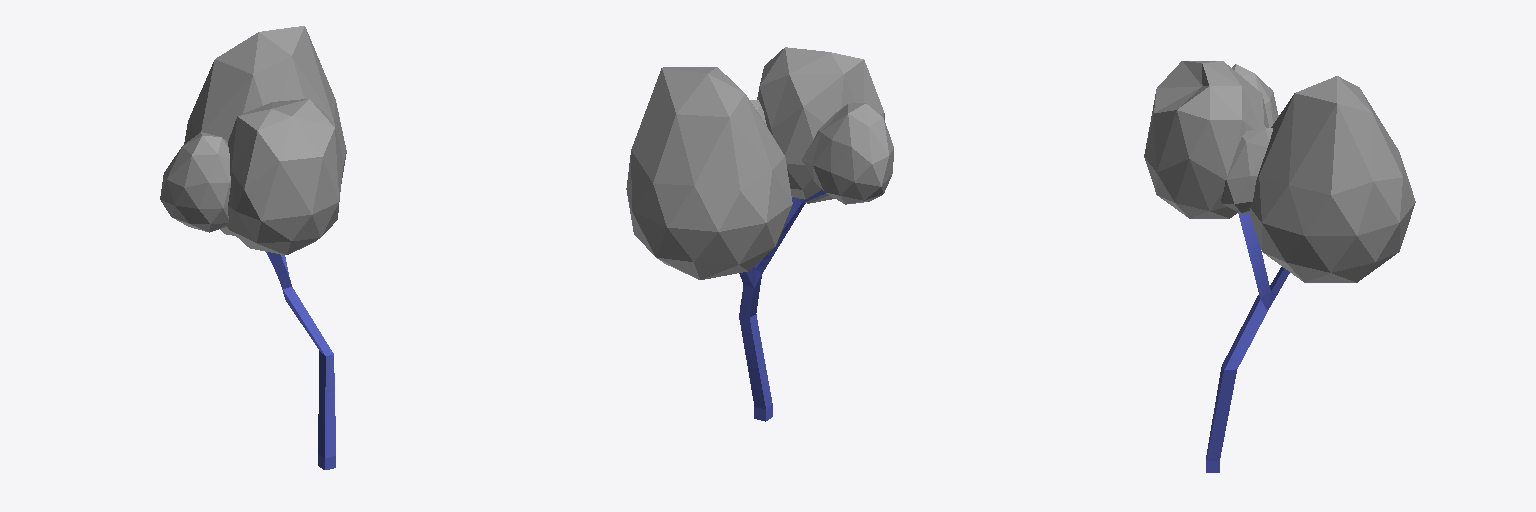
File: tree7.obj
The picture shows the model from 3 angles: view 1: azimuth 30°, elevation 25°; view 2: azimuth 150°, elevation 25°; view 3: azimuth 270°, elevation 25°; orthographic projection.
Visible parts, largest first — view 1: Icosphere.002, Cube.006; view 2: Icosphere.002, Cube.006; view 3: Icosphere.002, Cube.006.
Boxes of the visible parts, <box> form: Icosphere.002: <box>160,26,346,254</box>; Cube.006: <box>266,252,335,469</box>; Icosphere.002: <box>626,47,893,279</box>; Cube.006: <box>739,189,825,421</box>; Icosphere.002: <box>1144,61,1415,282</box>; Cube.006: <box>1206,212,1289,472</box>.
Bounding box in the file's own units: 7.26 × 12.88 × 8.11.